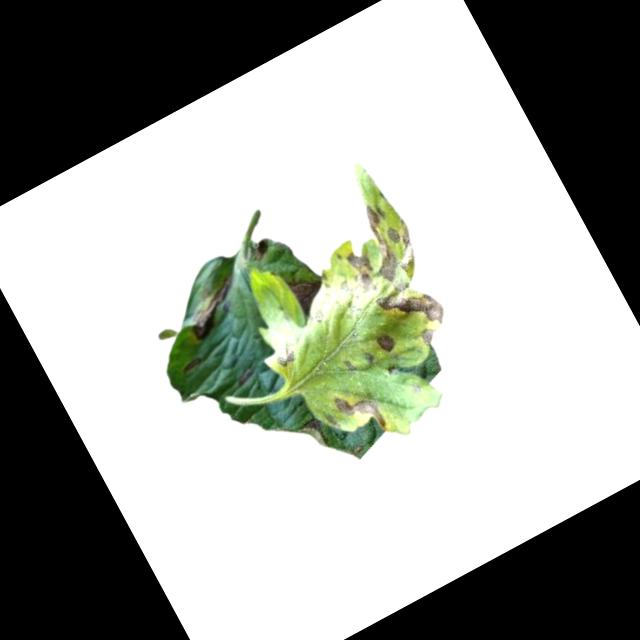Early_blight: (324, 193, 461, 362), (173, 268, 251, 346), (328, 380, 388, 445), (283, 269, 333, 324), (266, 334, 301, 371), (373, 330, 398, 357)
